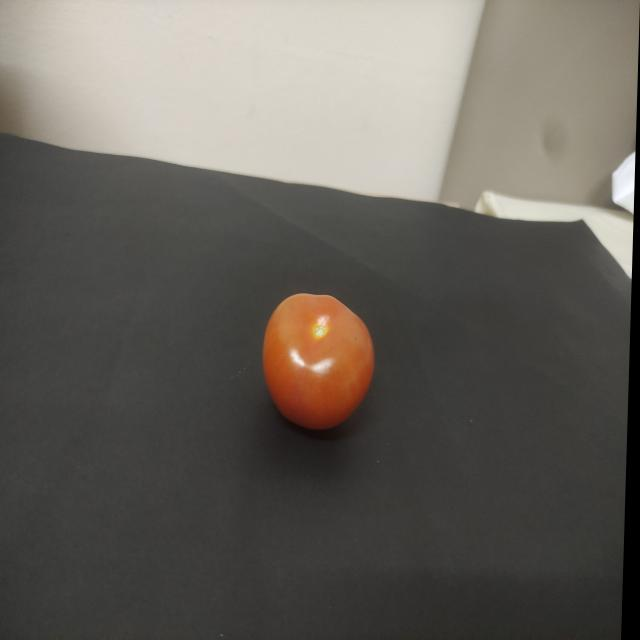sari: (246, 269, 399, 452)
